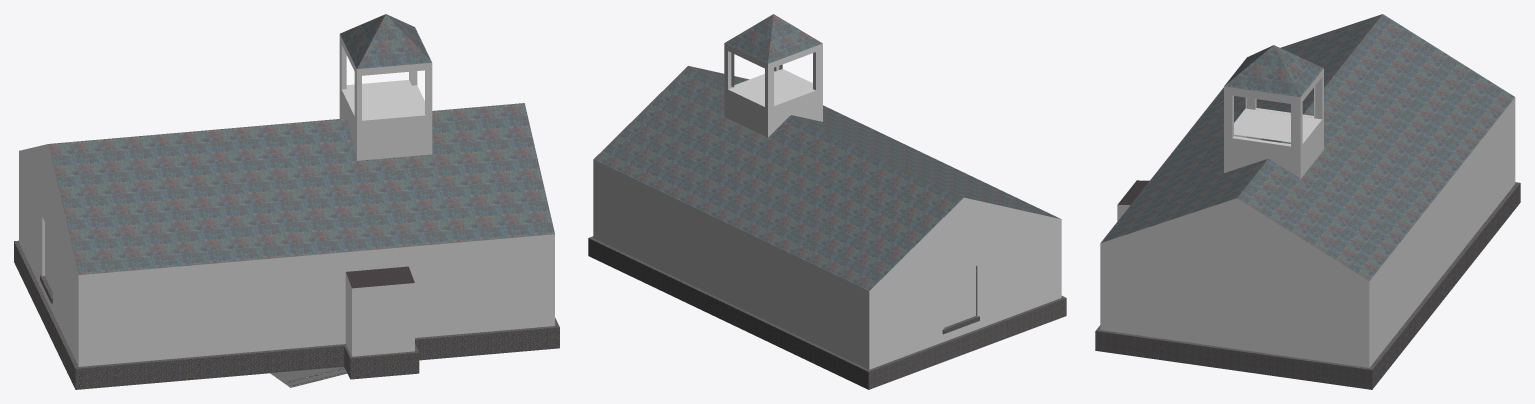
The model's file is sluice.glb.
3 views of the same model, side by side, from view 1: azimuth 30°, elevation 25°; view 2: azimuth 150°, elevation 25°; view 3: azimuth 270°, elevation 25° (orthographic). The views are drawn at different scales.
Parts seen in each view (by area): view 1: _(Loose Entity), G-Google Earth Terrain; view 2: _(Loose Entity); view 3: _(Loose Entity).
Boxes of the visible parts, x1,y1,x2,y2 form: _(Loose Entity): (14,14,559,389); G-Google Earth Terrain: (270,367,344,383); _(Loose Entity): (588,14,1066,389); _(Loose Entity): (1095,14,1520,389).
Bounding box in the file's own units: 16.67 × 10.24 × 13.22.
Materials: 13 (4 with a texture image).
